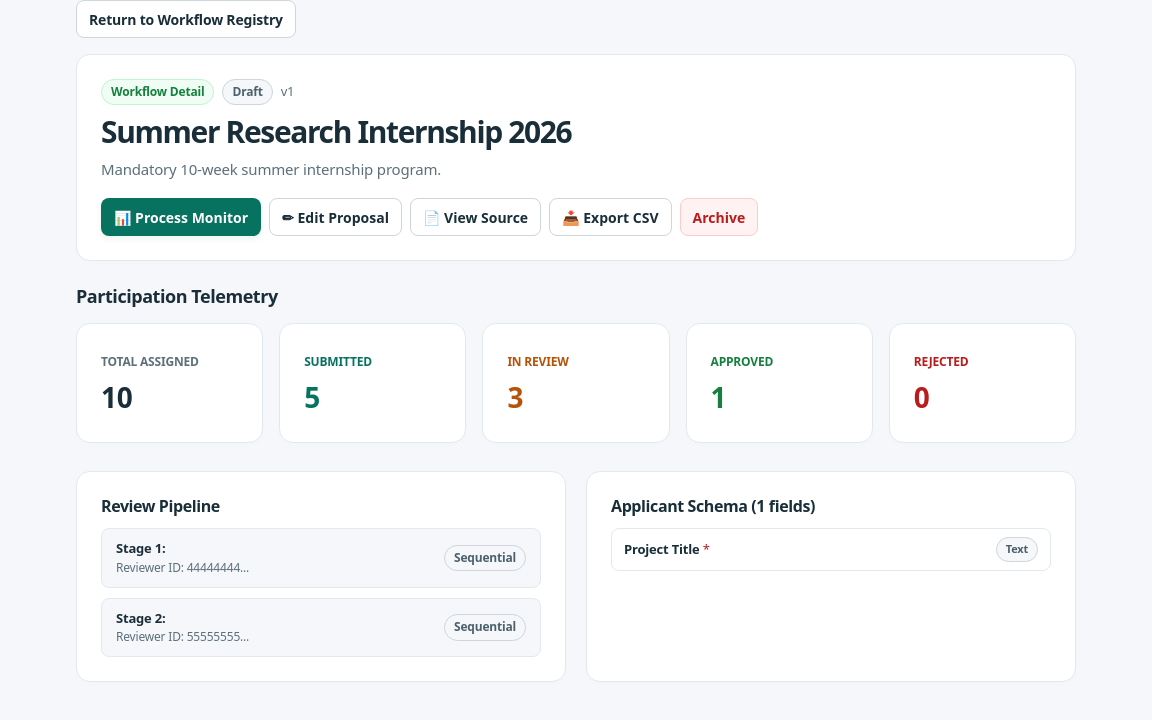
Test: P-007 Workflow Overview Page and Elements (T-A11Y-P007, EL-045..EL-050) › opens source dialog on EL-047 click
Click the button with test id "EL-047": [476, 217] box [410,198,541,236]
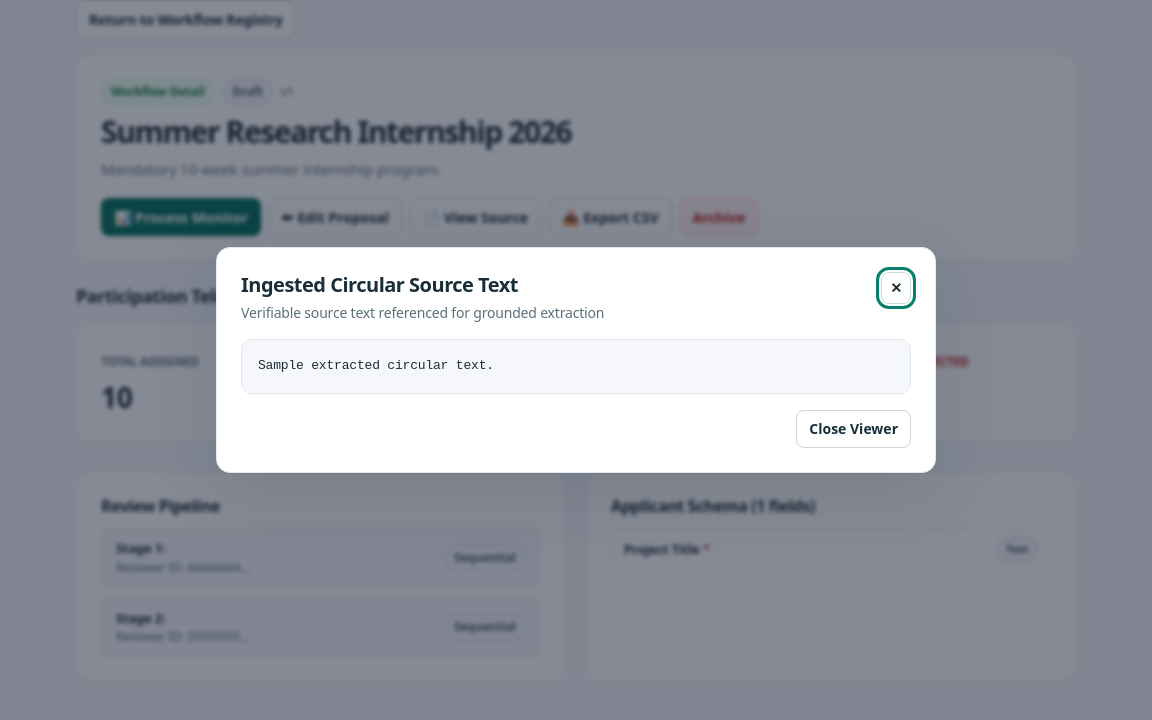
expect the heading "Ingested Circular Source Text" is shown: met, box [241,271,518,298]
expect the text "Sample extracted circular text." is shown: met, box [241,339,911,394]
